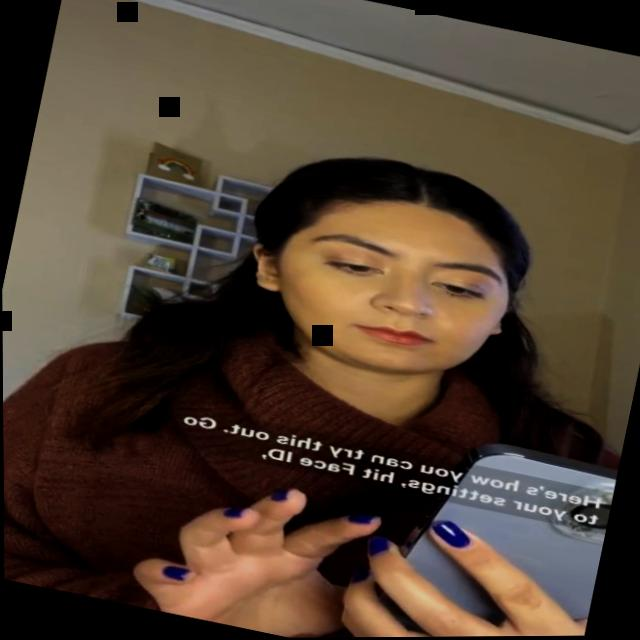NO-Mask: (222, 163, 539, 419)
